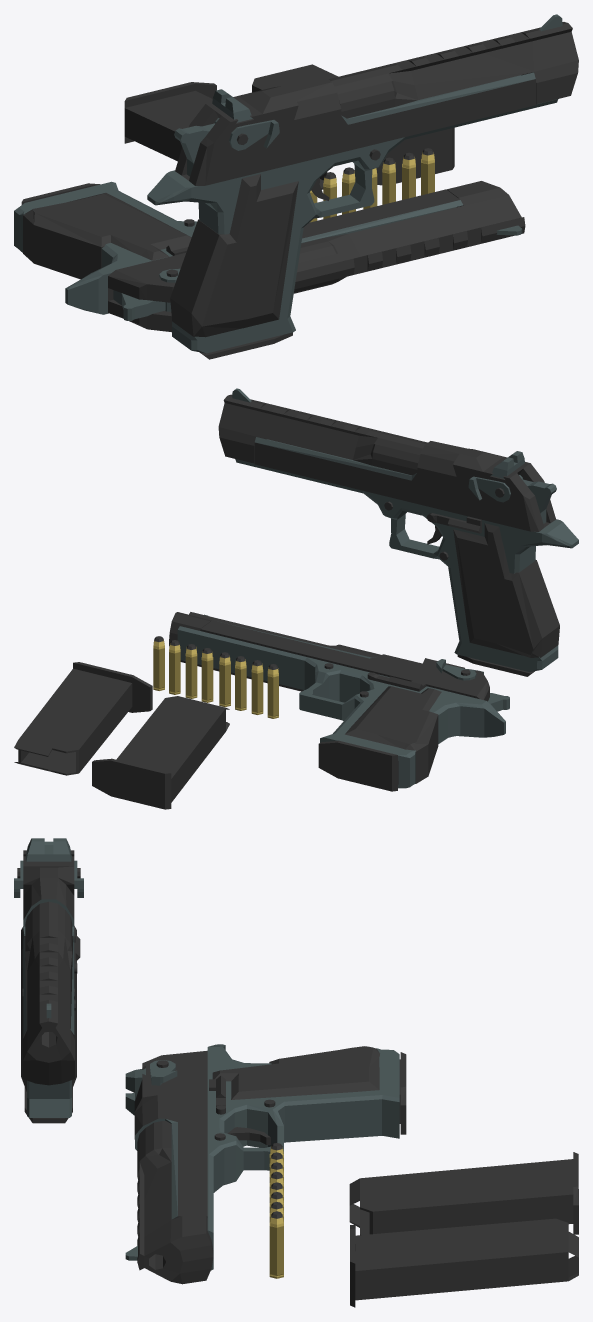
Rendered from Desert Eagle.fbx.
3 views of the same model, one above another, from view 1: azimuth 30°, elevation 25°; view 2: azimuth 150°, elevation 25°; view 3: azimuth 270°, elevation 25° (orthographic). The views are drawn at different scales.
Parts seen in each view (by area): view 1: Box001, Box002, Box012, Cylinder003, Cylinder027, Box013, Box010, Box011, Cylinder007, Cylinder028, Cylinder004, Box005 (+3 smaller); view 2: Box001, Box012, Box002, Box011, Box010, Cylinder003, Box013, Box015, Cylinder027, Cylinder007, Cylinder019, Cylinder022 (+8 smaller); view 3: Box012, Box011, Box010, Box013, Cylinder003, Cylinder027, Box002, Box001, Cylinder025, Box015.
Boxes of the visible parts, <box> form: Box001: <box>147,99,558,353</box>; Box002: <box>175,72,535,185</box>; Box012: <box>14,181,309,314</box>; Cylinder003: <box>328,14,578,118</box>; Cylinder027: <box>293,181,525,293</box>; Box013: <box>108,189,462,332</box>; Box010: <box>124,82,327,189</box>; Box011: <box>252,64,454,185</box>; Cylinder007: <box>214,118,279,150</box>; Cylinder028: <box>113,290,165,320</box>; Cylinder004: <box>174,123,214,176</box>; Box005: <box>199,332,292,359</box>; Box001: <box>235,459,578,671</box>; Box012: <box>177,626,505,788</box>; Box002: <box>254,437,555,531</box>; Box011: <box>14,662,152,775</box>; Box010: <box>92,696,229,809</box>; Cylinder003: <box>218,388,427,475</box>; Box013: <box>200,620,489,701</box>; Box015: <box>318,740,398,791</box>; Cylinder027: <box>169,612,381,666</box>; Cylinder007: <box>468,475,522,502</box>; Cylinder019: <box>251,660,263,714</box>; Cylinder022: <box>201,648,213,702</box>; Box012: <box>207,1044,399,1270</box>; Box011: <box>350,1218,578,1307</box>; Box010: <box>349,1152,578,1235</box>; Box013: <box>125,1050,207,1219</box>; Cylinder003: <box>22,901,74,1085</box>; Cylinder027: <box>125,1121,213,1284</box>; Box002: <box>23,838,74,1037</box>; Box001: <box>21,926,76,1117</box>; Cylinder025: <box>269,1211,283,1278</box>; Box015: <box>399,1052,406,1134</box>.
Size of the model in its own units: 203 by 118 by 214.
Materials: 4 (4 with a texture image).
